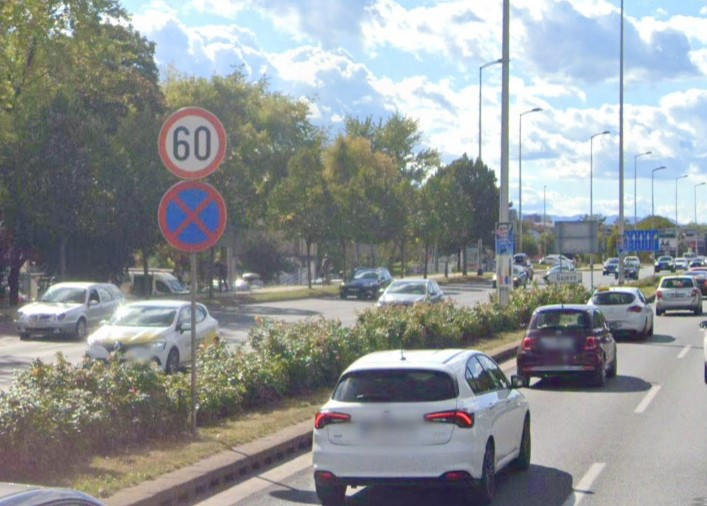Ograničenje brzine 60: (158, 106, 227, 180)
